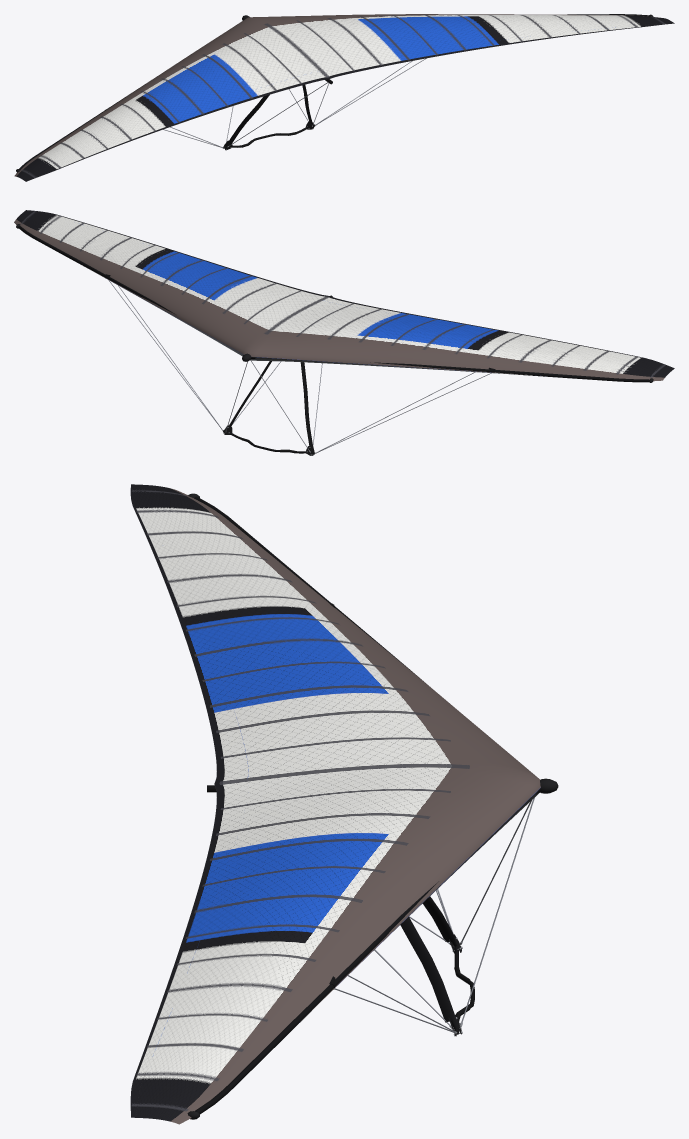
Rendered from glider_aeros_combat_l.glb.
3 renders of one model, top to bottom at view 1: azimuth 30°, elevation 25°; view 2: azimuth 150°, elevation 25°; view 3: azimuth 270°, elevation 25°, orthographic. The views are drawn at different scales.
Parts seen in each view (by area): view 1: Sail, ControlFrame, Frame; view 2: Sail, ControlFrame, Frame; view 3: Sail, ControlFrame, Frame.
Boxes of the visible parts, bbox=[...] form: Sail: bbox=[14, 14, 674, 181]; ControlFrame: bbox=[163, 58, 426, 150]; Frame: bbox=[16, 14, 653, 172]; Sail: bbox=[14, 210, 674, 381]; ControlFrame: bbox=[108, 280, 491, 455]; Frame: bbox=[16, 224, 653, 382]; Sail: bbox=[130, 484, 540, 1124]; ControlFrame: bbox=[334, 797, 534, 1036]; Frame: bbox=[187, 493, 558, 1119].
Bounding box in the file's own units: 10.35 × 1.78 × 2.95.
8 materials, 1 textured.
